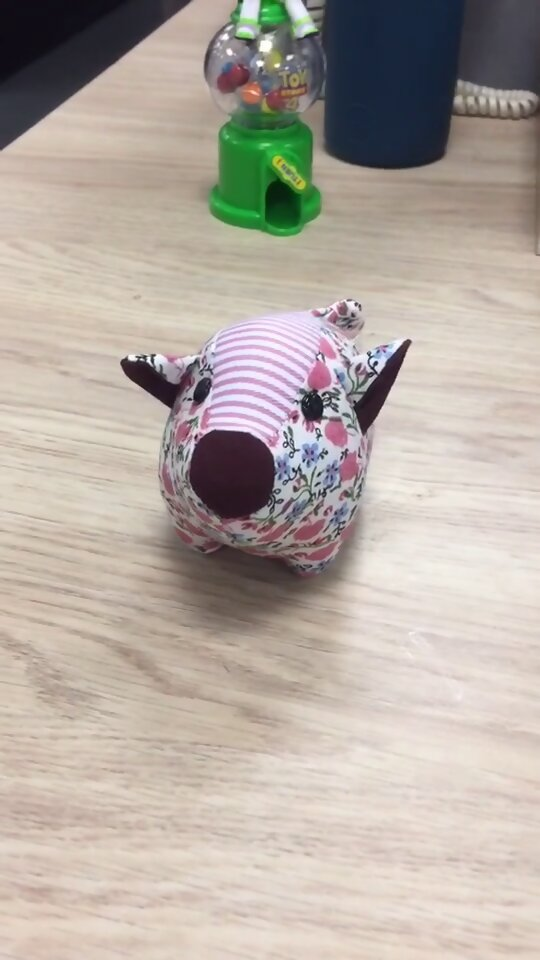pig: (118, 294, 415, 580)
